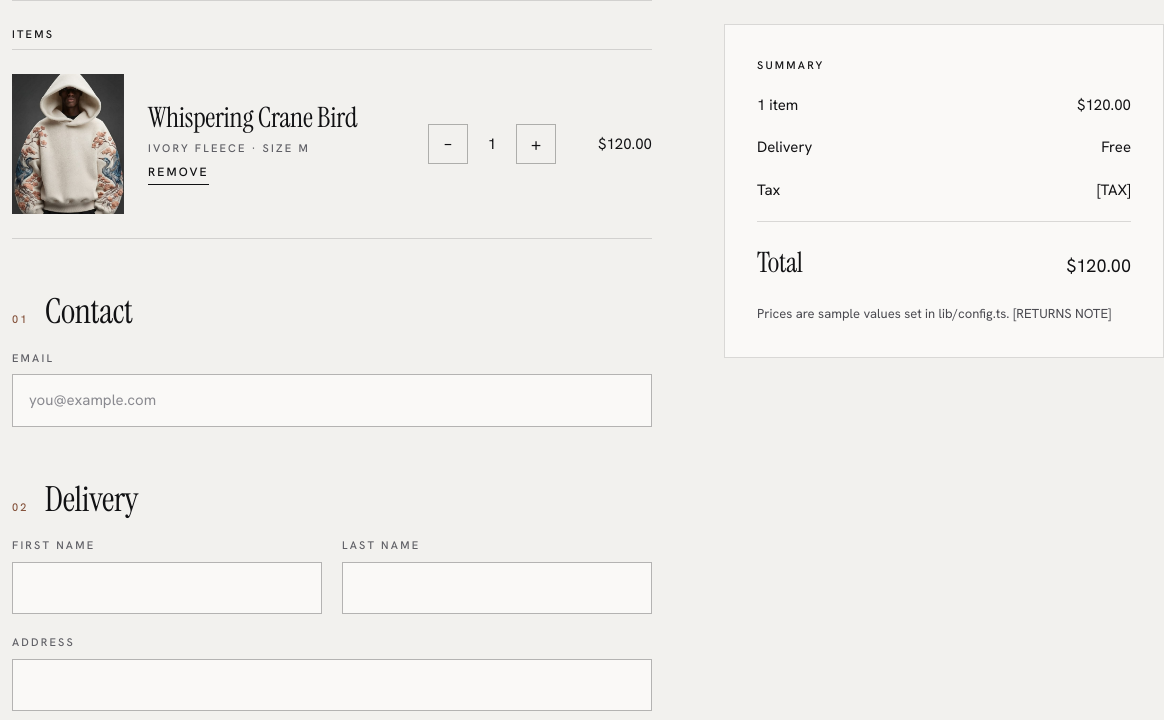
Test case: changing quantities › increments with One more
The width and height of the screenshot is (1164, 720).
What coordinates should you click on to do the following:
click the button named "One more"
I would click on:
 (536, 144)
Its box is x1=516 y1=124 x2=556 y2=164.
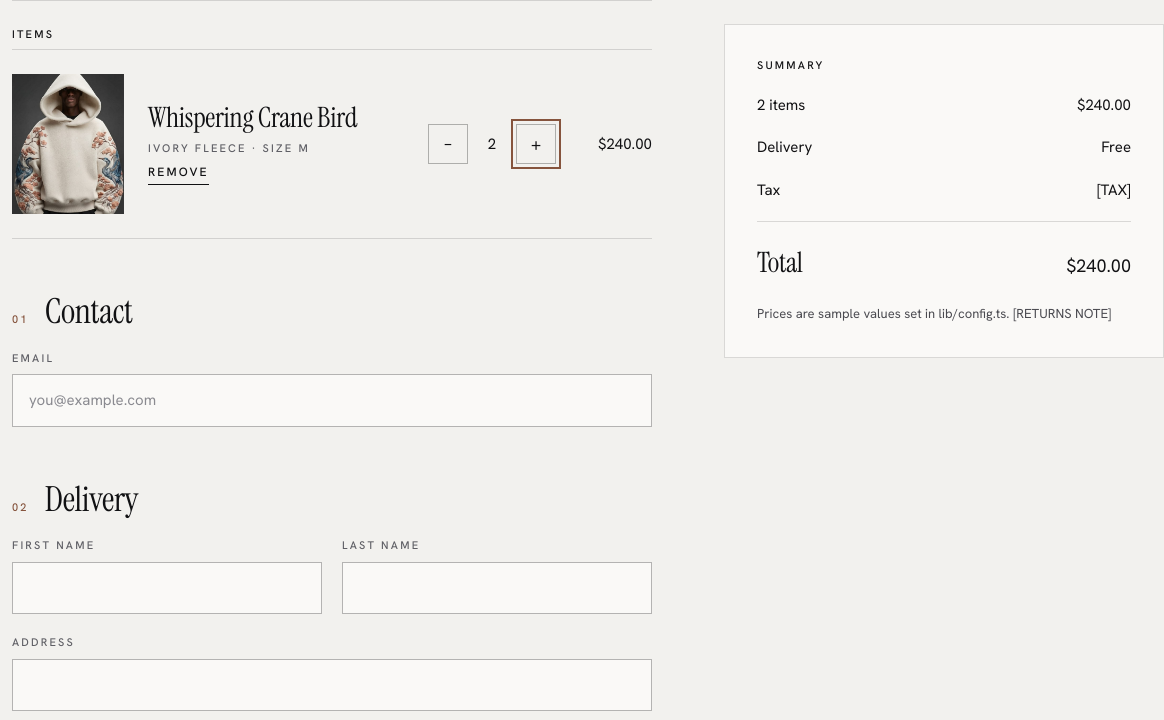
Result: the text named "Quantity" reads "2" at x1=488 y1=134 x2=496 y2=154
